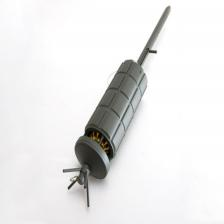POMZ2: (68, 4, 181, 216)
